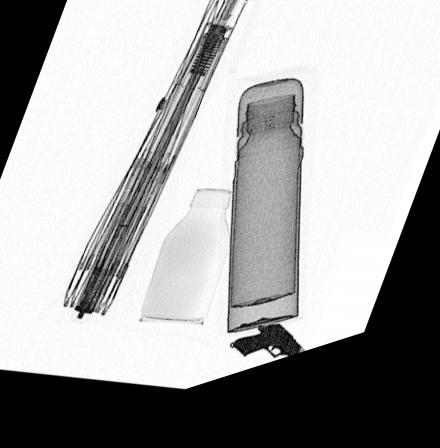Gun: (232, 341, 305, 376)
